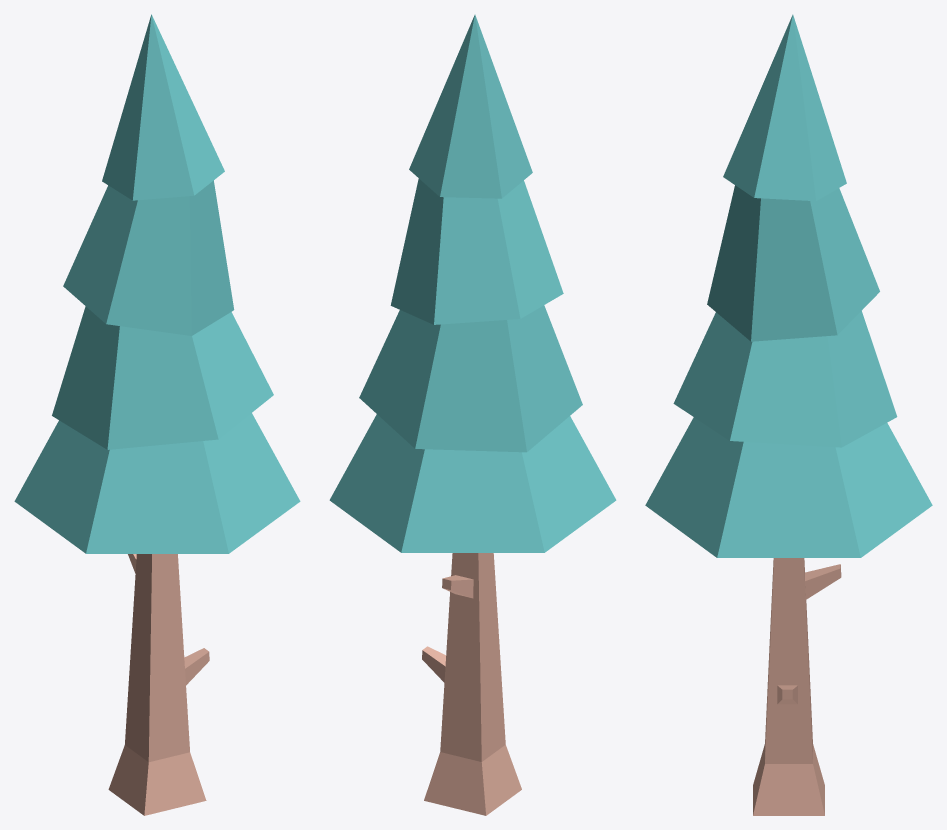
The model's file is tree_pineTallC_detailed.glb.
The picture shows the model from 3 angles, left to right: view 1: azimuth 30°, elevation 25°; view 2: azimuth 150°, elevation 25°; view 3: azimuth 270°, elevation 25°; orthographic projection.
Visible parts, largest first — view 1: tree_pineTallC_detailed; view 2: tree_pineTallC_detailed; view 3: tree_pineTallC_detailed.
Boxes of the visible parts, x1,y1,x2,y2 form: tree_pineTallC_detailed: (14, 14, 300, 815); tree_pineTallC_detailed: (329, 14, 616, 815); tree_pineTallC_detailed: (645, 14, 932, 815).
Size of the model in its own units: 0.4804 by 1.67 by 0.5547.
